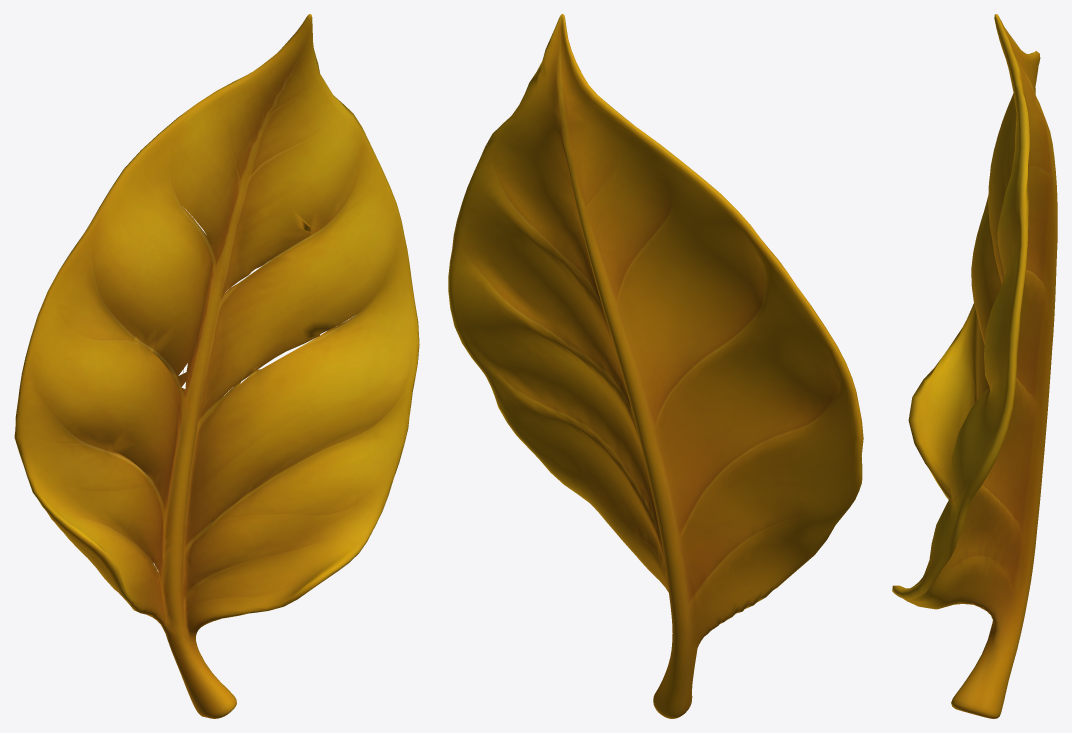
Rendered from yleaf.glb.
3 renders of one model, left to right at view 1: azimuth 30°, elevation 25°; view 2: azimuth 150°, elevation 25°; view 3: azimuth 270°, elevation 25°, orthographic. The views are drawn at different scales.
Parts seen in each view (by area): view 1: tripo_node_d60cb068; view 2: tripo_node_d60cb068; view 3: tripo_node_d60cb068.
Part boxes in pixels (x1,y1,x2,y2): tripo_node_d60cb068: (14,14,419,718); tripo_node_d60cb068: (448,14,863,718); tripo_node_d60cb068: (892,14,1057,718).
Size of the model in its own units: 61.62 by 98.01 by 19.33.
1 material, 1 textured.
